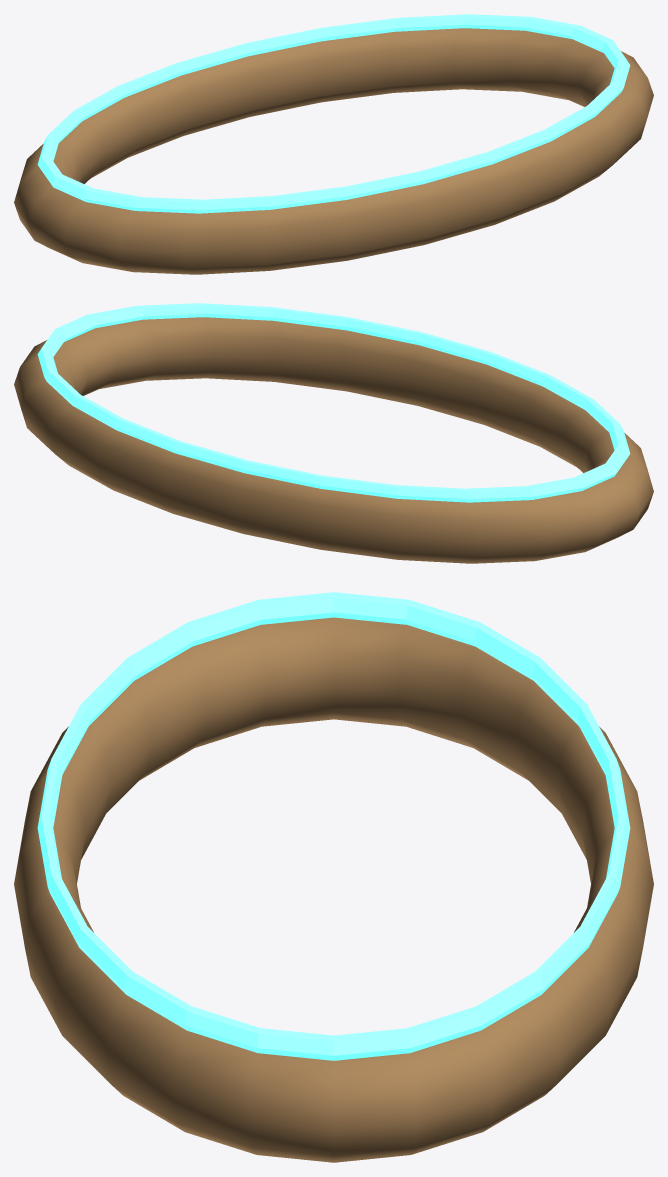
Rendered from field-coil.glb.
3 views of the same model, one above another, from view 1: azimuth 30°, elevation 25°; view 2: azimuth 150°, elevation 25°; view 3: azimuth 270°, elevation 25° (orthographic). The views are drawn at different scales.
Visible parts, largest first — view 1: CoilRing, CoilGlow; view 2: CoilRing, CoilGlow; view 3: CoilRing, CoilGlow.
Part boxes in pixels (bbox=[...]): CoilRing: bbox=[14, 28, 653, 274]; CoilGlow: bbox=[37, 14, 630, 213]; CoilRing: bbox=[14, 317, 653, 563]; CoilGlow: bbox=[37, 303, 630, 502]; CoilRing: bbox=[14, 617, 653, 1162]; CoilGlow: bbox=[37, 592, 630, 1060].
Size of the model in its own units: 2.44 by 0.2701 by 1.34.
